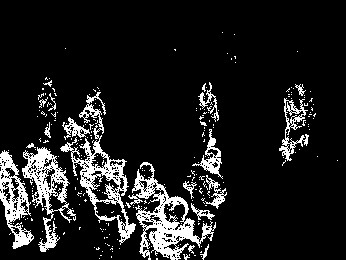person: (22, 145, 76, 254), (82, 152, 135, 246), (185, 147, 227, 256), (127, 159, 169, 253), (62, 117, 105, 190), (153, 196, 202, 260), (1, 151, 28, 251), (280, 83, 313, 162), (81, 85, 107, 151), (197, 81, 220, 146), (38, 75, 59, 142)
